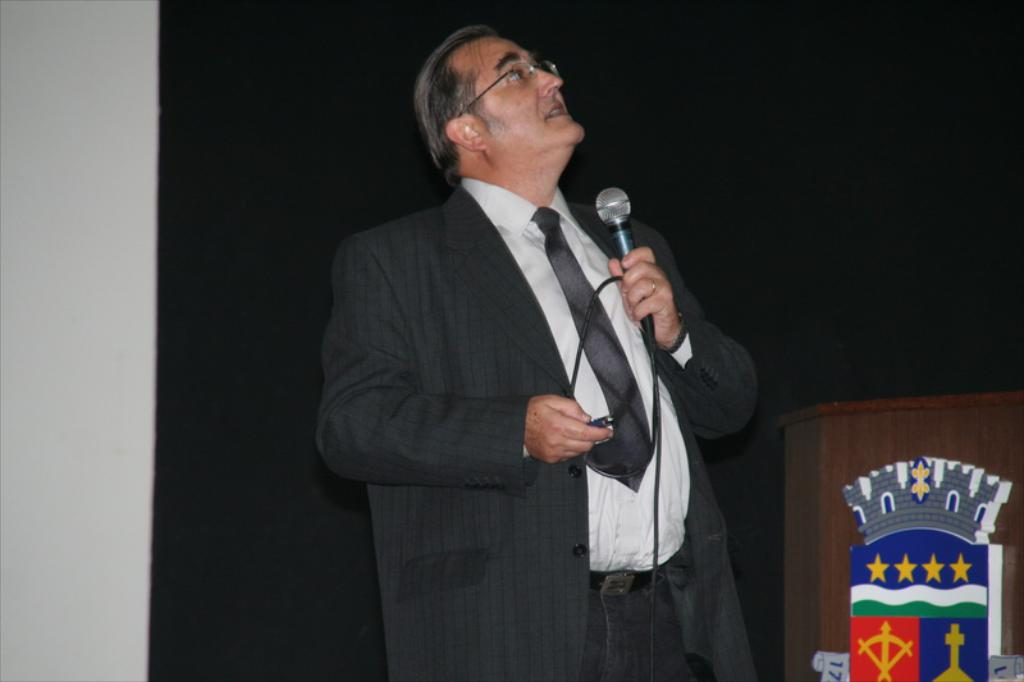Human_hand: (607, 244, 680, 347), (524, 392, 613, 470)
